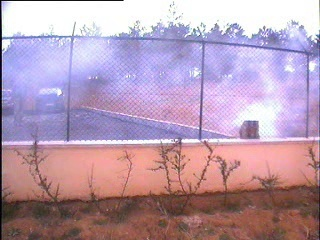smoke: (142, 26, 308, 138)
